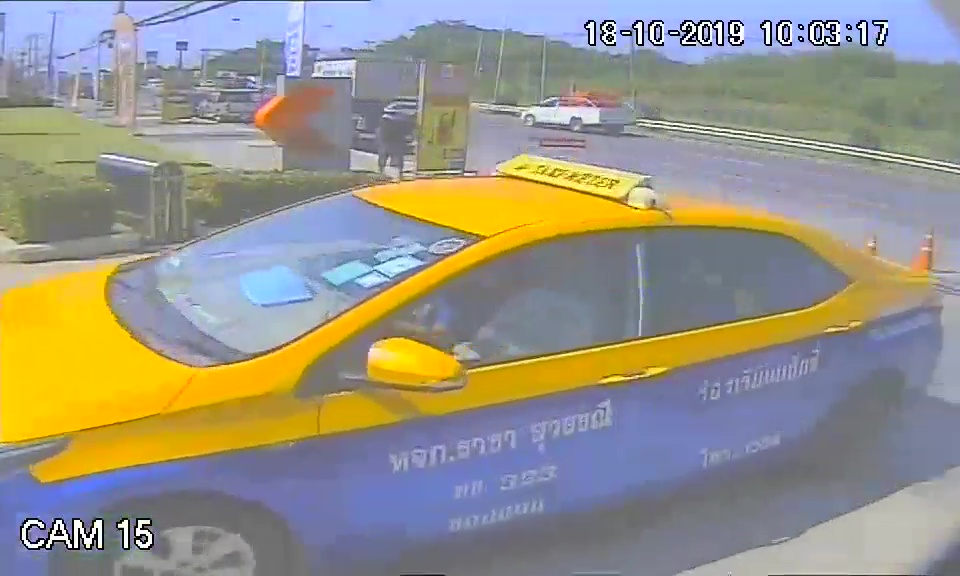sedan: (7, 172, 944, 549)
